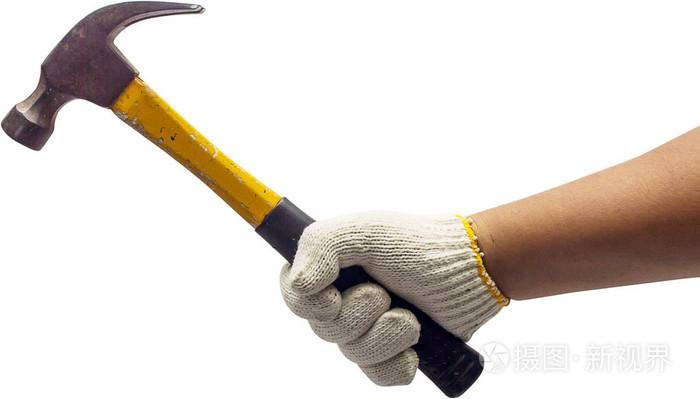no-phone: (183, 149, 565, 399)
